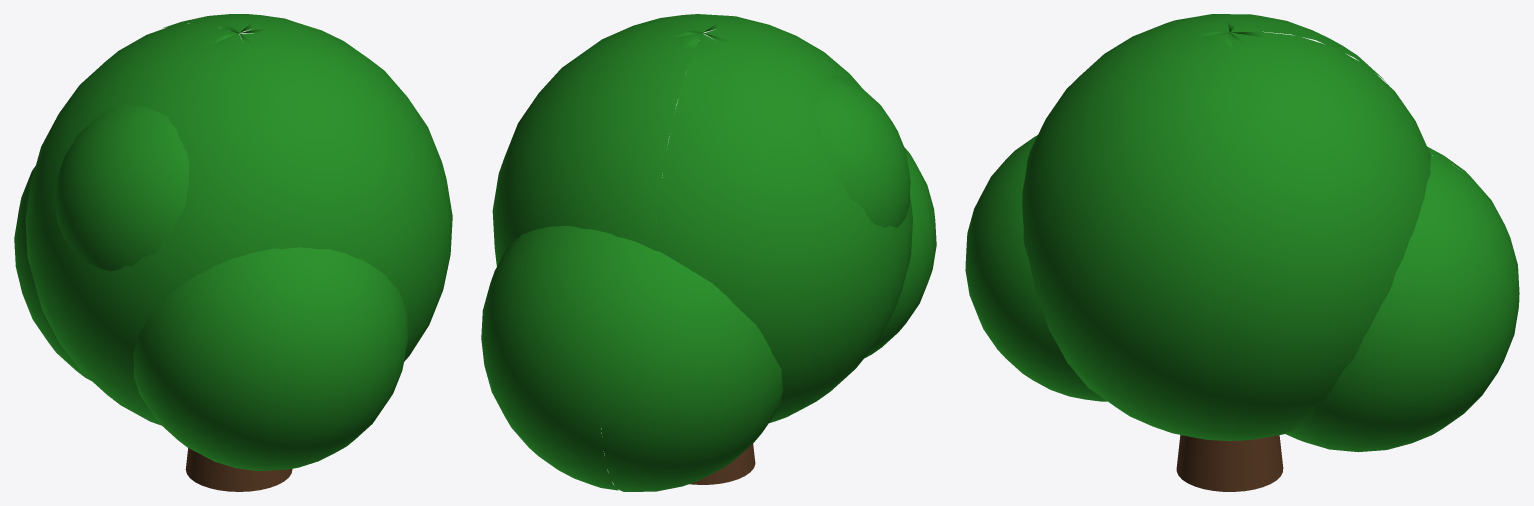
The model's file is arbusto.glb.
The picture shows the model from 3 angles, left to right: view 1: azimuth 30°, elevation 25°; view 2: azimuth 150°, elevation 25°; view 3: azimuth 270°, elevation 25°; orthographic projection.
Size of the model in its own units: 2.39 by 2.71 by 3.11.
